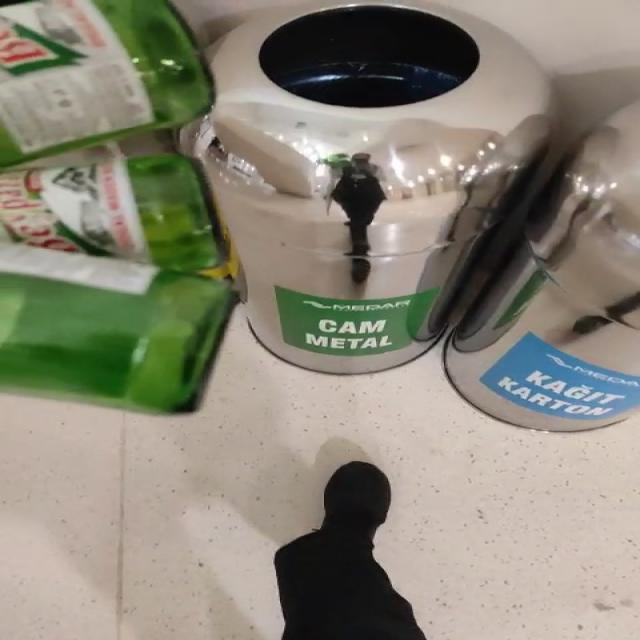bin: (193, 3, 551, 374)
glass: (0, 154, 233, 413)
